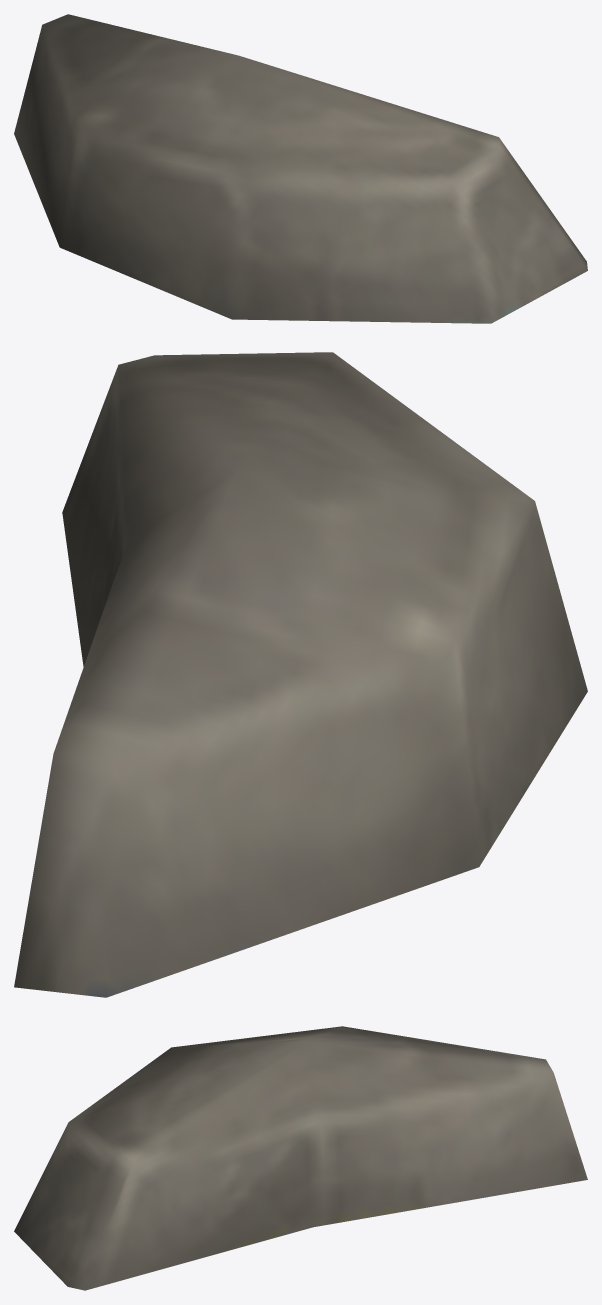
The model's file is cold_whetstone.FBX.
3 views of the same model, one above another, from view 1: azimuth 30°, elevation 25°; view 2: azimuth 150°, elevation 25°; view 3: azimuth 270°, elevation 25° (orthographic). The views are drawn at different scales.
Parts seen in each view (by area): view 1: Object017; view 2: Object017; view 3: Object017.
Part boxes in pixels (x1,y1,x2,y2): Object017: [14, 14, 587, 323]; Object017: [14, 352, 587, 997]; Object017: [14, 1026, 587, 1290].
Size of the model in its own units: 0.4616 by 0.1961 by 0.6731.
